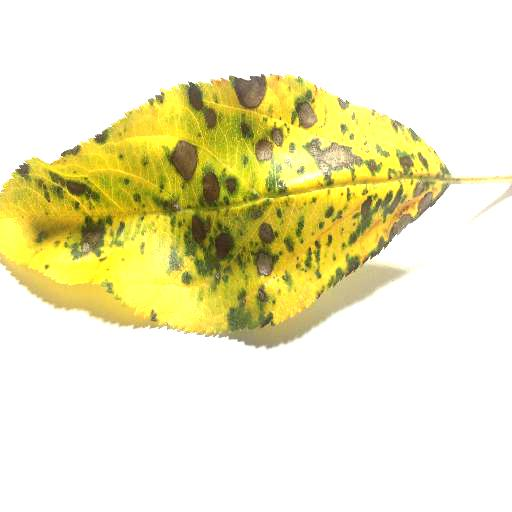Brown_Spot: (306, 143, 359, 164), (232, 77, 265, 105), (165, 144, 193, 176), (301, 98, 320, 128), (76, 226, 101, 246), (258, 252, 275, 277), (187, 87, 203, 111), (189, 218, 207, 239), (214, 236, 232, 257), (205, 176, 218, 204), (255, 145, 273, 164), (364, 203, 415, 209), (398, 155, 418, 170), (65, 181, 84, 193), (204, 114, 215, 129), (261, 226, 273, 239), (273, 130, 283, 143), (229, 177, 237, 192), (370, 159, 377, 172)
